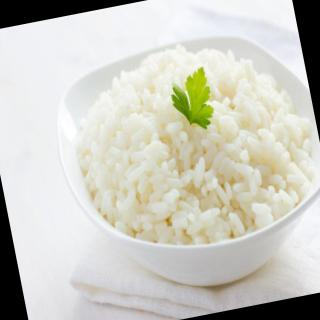Nasi: (59, 20, 320, 265)
